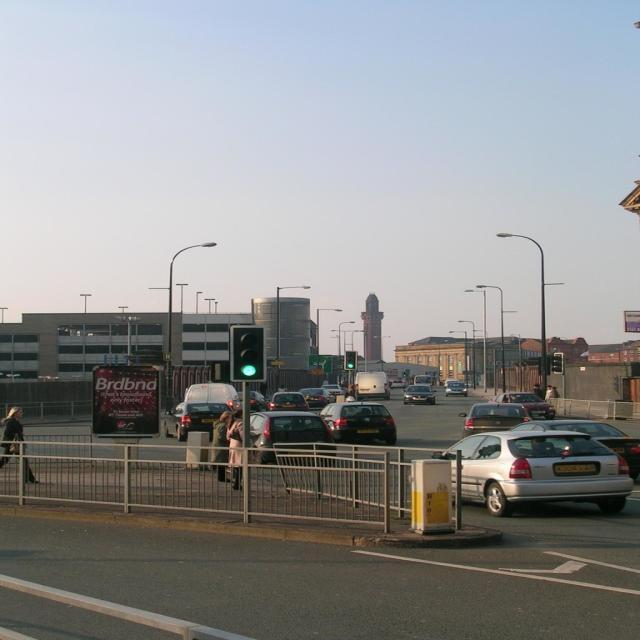traffic light: (233, 327, 264, 380), (345, 351, 356, 369)
